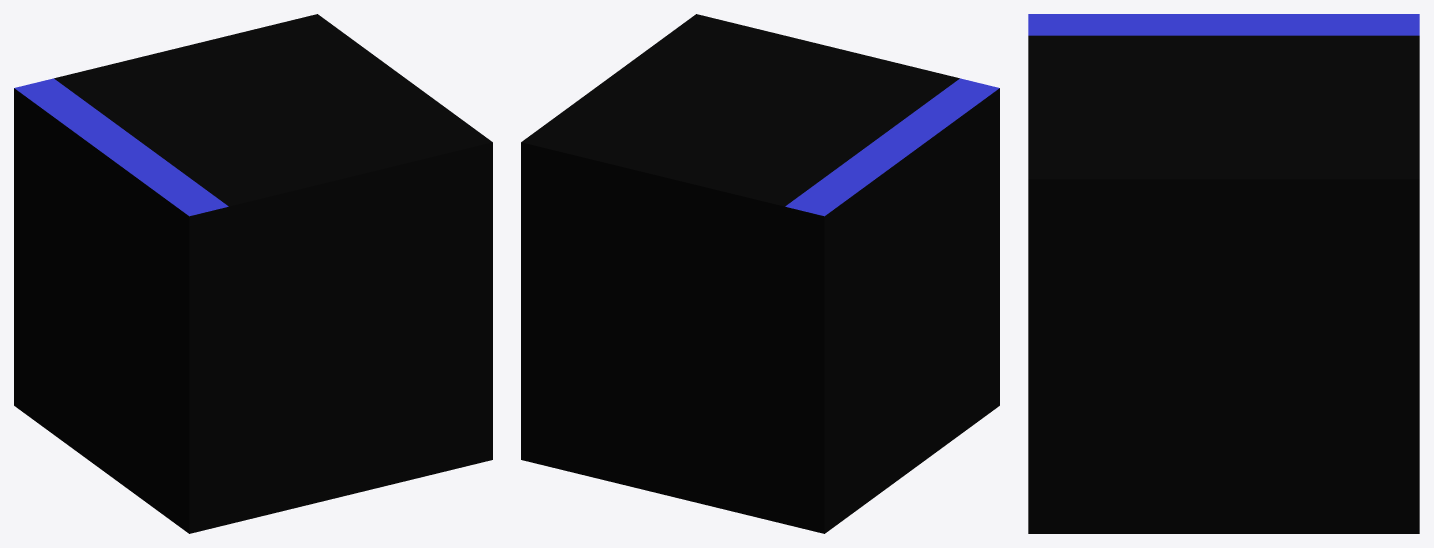
File: Island piece.fbx
3 renders of one model, left to right at view 1: azimuth 30°, elevation 25°; view 2: azimuth 150°, elevation 25°; view 3: azimuth 270°, elevation 25°, orthographic. The views are drawn at different scales.
Parts seen in each view (by area): view 1: Cube.004; view 2: Cube.004; view 3: Cube.004.
Part boxes in pixels (box(x1,y1,x2,y2)): Cube.004: box(14, 14, 492, 533); Cube.004: box(521, 14, 999, 533); Cube.004: box(1028, 14, 1419, 533).
Size of the model in its own units: 200 by 200 by 200.
